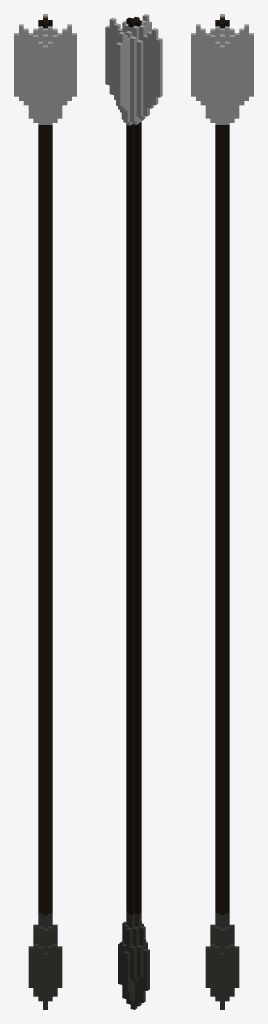
File: Arrow_Bodkin_Iron_Large.obj
The picture shows the model from 3 angles, left to right: view 1: azimuth 90°, elevation 25°; view 2: azimuth 150°, elevation 25°; view 3: azimuth 270°, elevation 25°; orthographic projection.
Bounding box in the file's own units: 1.3 × 22.5 × 1.3.
1 material, 1 textured.
